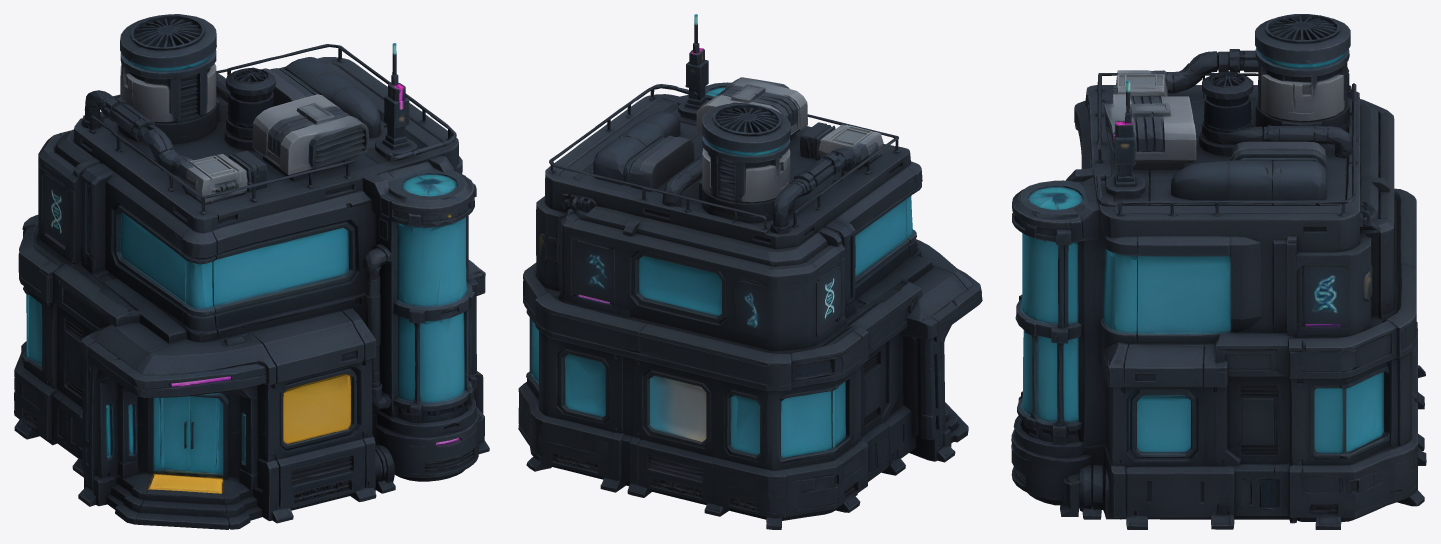
3 renders of one model, left to right at view 1: azimuth 30°, elevation 25°; view 2: azimuth 150°, elevation 25°; view 3: azimuth 270°, elevation 25°, orthographic. The views are drawn at different scales.
Visible parts, largest first — view 1: model; view 2: model; view 3: model.
Part boxes in pixels (x1,y1,x2,y2): model: (14,14,489,529); model: (518,14,982,529); model: (1011,14,1426,529).
Size of the model in its own units: 1.89 by 1.89 by 1.75.
Materials: 1 (1 with a texture image).
